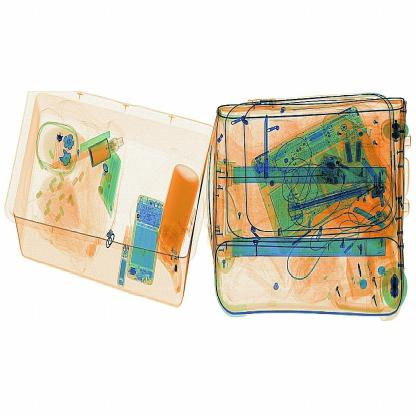pliers: (247, 114, 276, 180)
